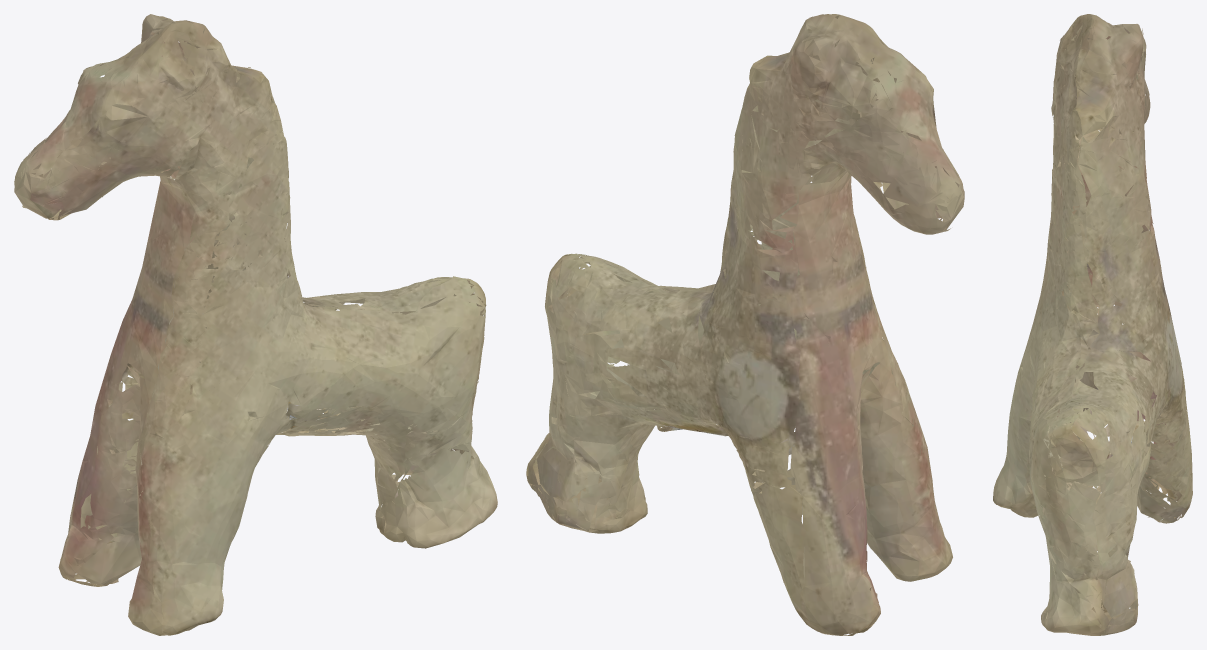
File: sf-cypriot-horse.glb
3 views of the same model, side by side, from view 1: azimuth 30°, elevation 25°; view 2: azimuth 150°, elevation 25°; view 3: azimuth 270°, elevation 25° (orthographic). The views are drawn at different scales.
Parts seen in each view (by area): view 1: Object_5, Object_4, Object_2, Object_3, Object_6; view 2: Object_3, Object_2, Object_4, Object_6, Object_5; view 3: Object_3, Object_4, Object_5, Object_2, Object_6.
Boxes of the visible parts, x1,y1,x2,y2 form: Object_5: [39, 32, 497, 635]; Object_4: [14, 14, 485, 517]; Object_2: [58, 171, 416, 635]; Object_3: [14, 64, 473, 585]; Object_6: [15, 16, 441, 541]; Object_3: [537, 80, 961, 583]; Object_2: [621, 163, 952, 635]; Object_4: [528, 14, 964, 530]; Object_6: [556, 14, 964, 609]; Object_5: [526, 34, 945, 537]; Object_3: [1071, 51, 1186, 622]; Object_4: [1039, 14, 1154, 630]; Object_5: [993, 16, 1134, 635]; Object_2: [994, 128, 1192, 550]; Object_6: [1049, 16, 1192, 615].
Bounding box in the file's own units: 0.1129 × 0.1389 × 0.0485.
Materials: 1 (1 with a texture image).
